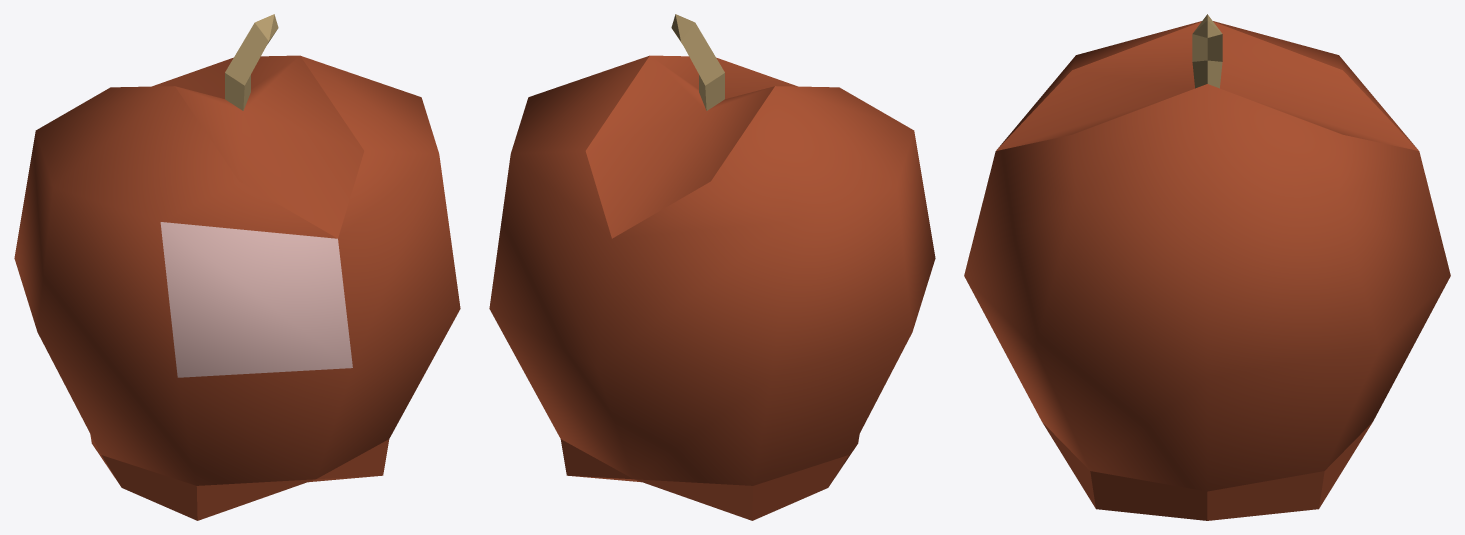
Rendered from Apple_Unwrapped.fbx.
3 renders of one model, left to right at view 1: azimuth 30°, elevation 25°; view 2: azimuth 150°, elevation 25°; view 3: azimuth 270°, elevation 25°, orthographic. The views are drawn at different scales.
Parts seen in each view (by area): view 1: apple; view 2: apple; view 3: apple.
Part boxes in pixels (x1,y1,x2,y2): apple: (14, 14, 460, 520); apple: (489, 14, 935, 520); apple: (964, 14, 1450, 520).
Bounding box in the file's own units: 15.02 × 16.91 × 15.02.
